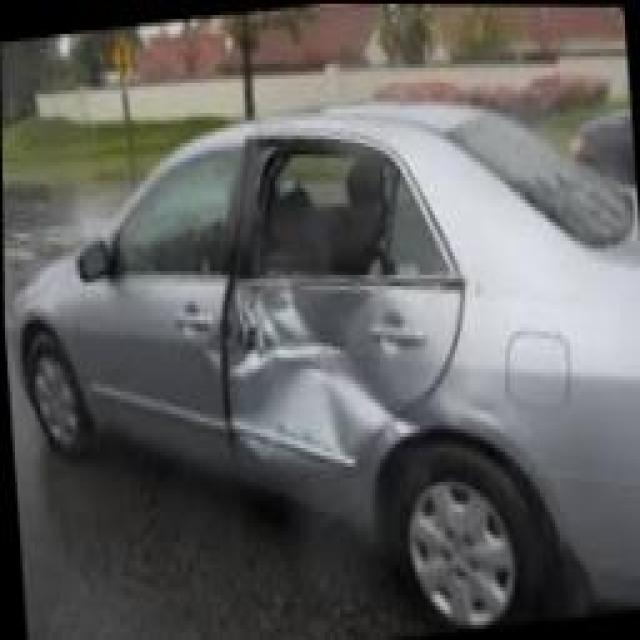Door: (223, 133, 457, 523)
Fender: (447, 363, 533, 440)
